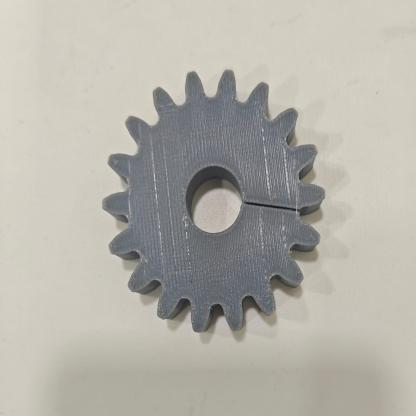defect: (232, 186, 336, 263)
gear: (93, 57, 357, 344)
